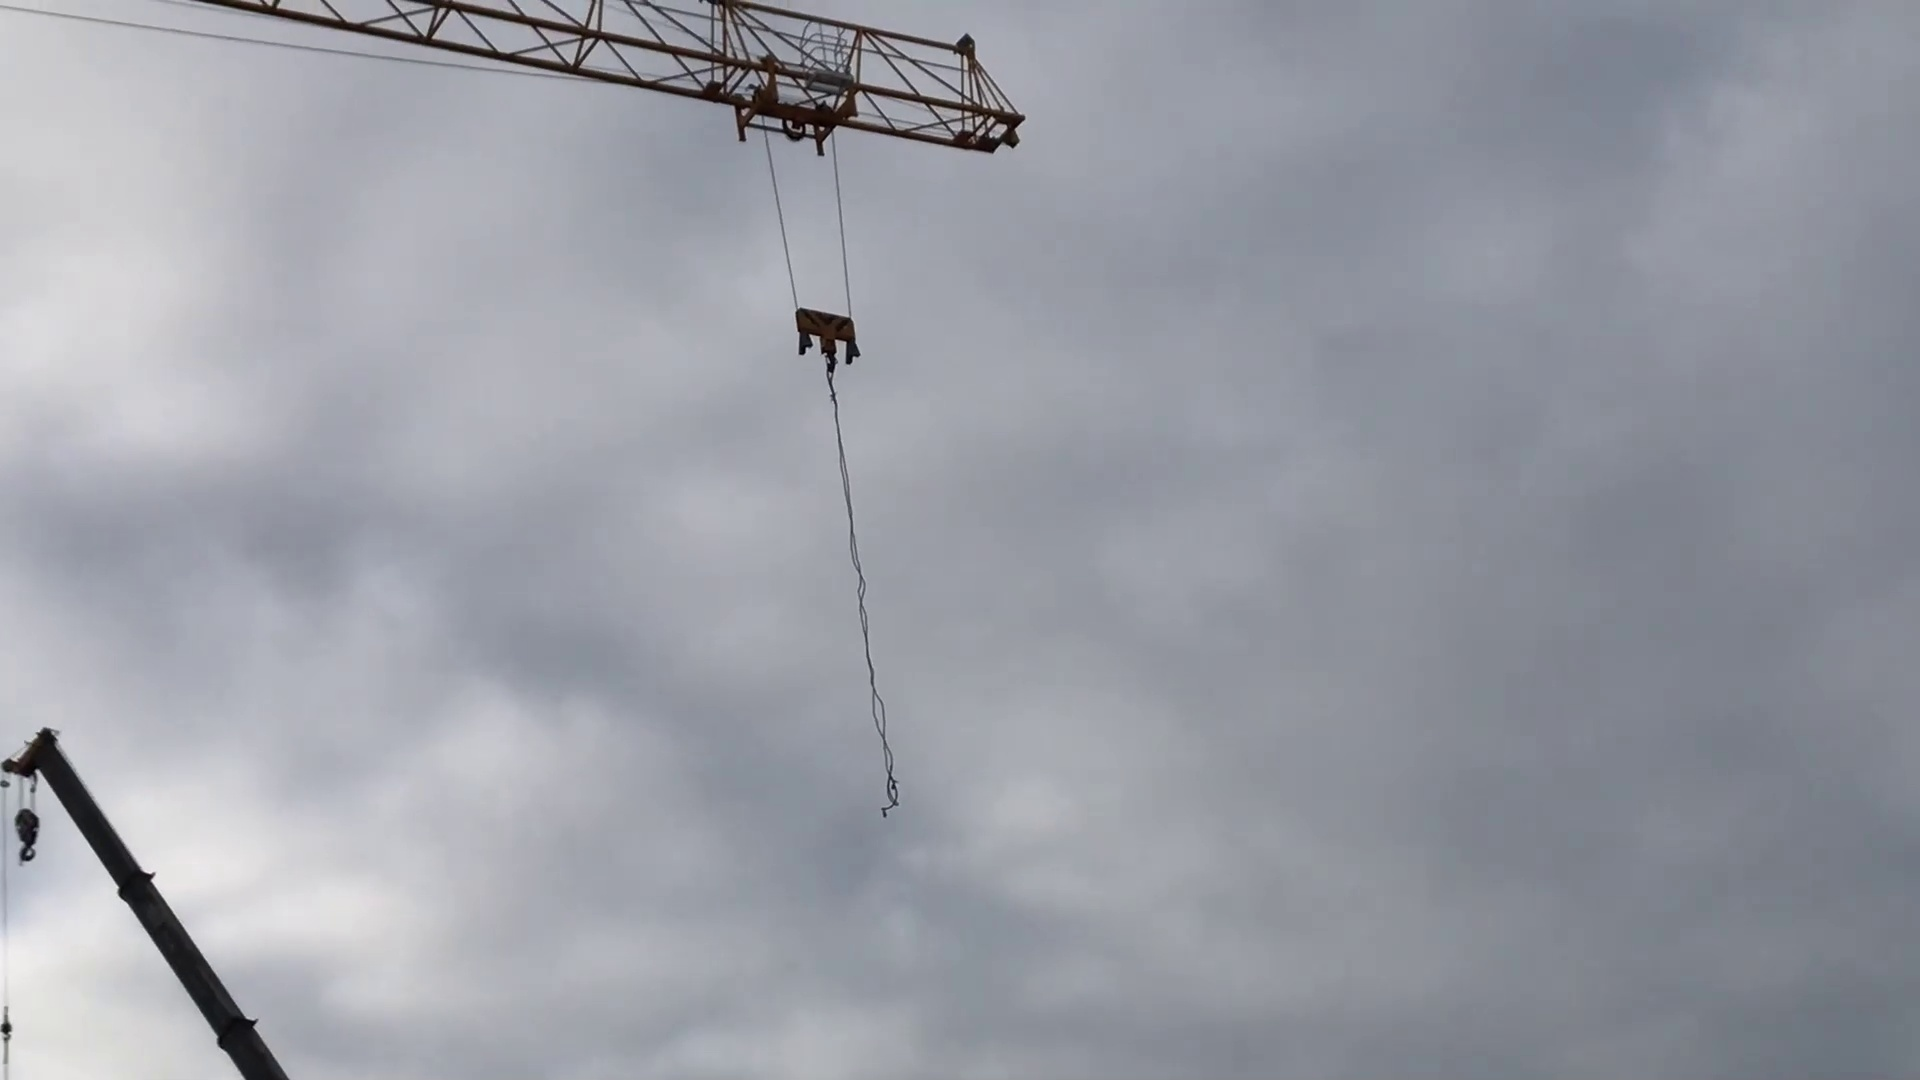hook: (782, 293, 874, 382), (1, 799, 51, 873)
